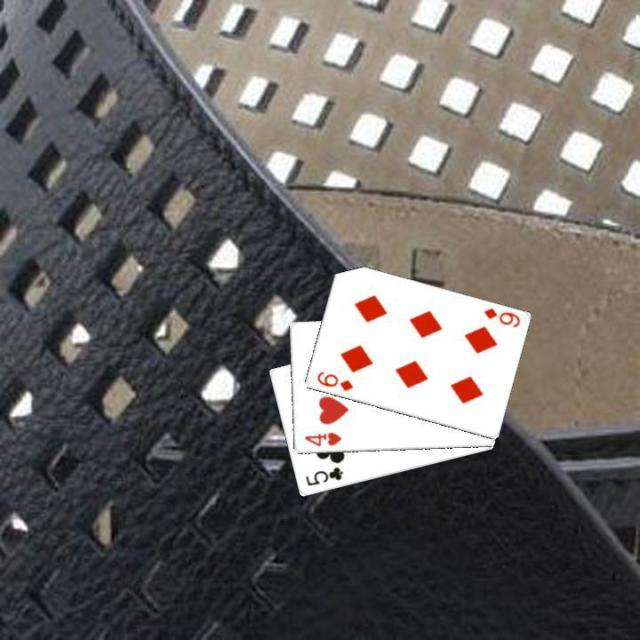4H: (301, 428, 343, 448)
5C: (301, 463, 344, 488)
6D: (480, 304, 522, 330), (313, 368, 355, 393)
